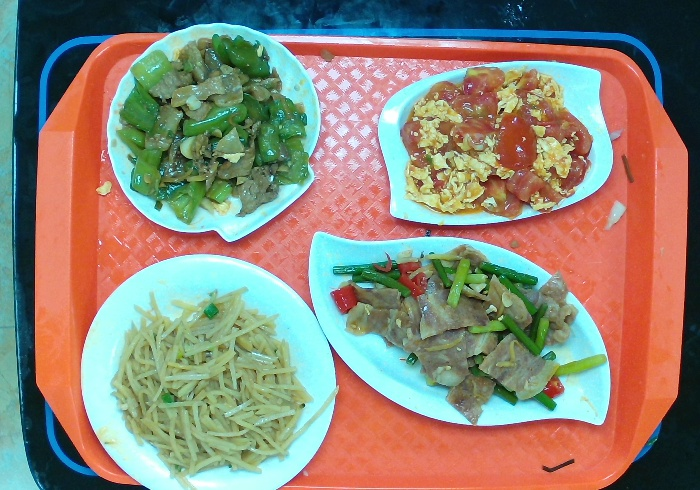RJxy-Bei_Ke_Wan: (102, 18, 330, 244)
RJxy-Jian_Jiao_Fang_Die: (375, 54, 624, 227)
RJxy-Jian_Jiao_Pan: (305, 214, 622, 447)
RJxy-Yuan_Pan: (79, 256, 333, 488)
